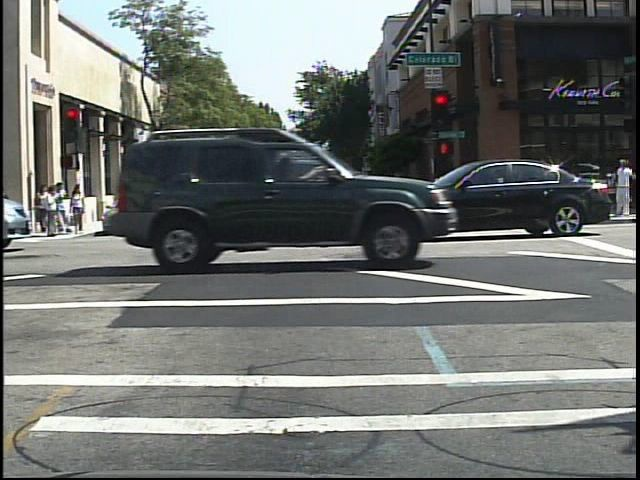person: (614, 156, 637, 220), (164, 180, 183, 221)
